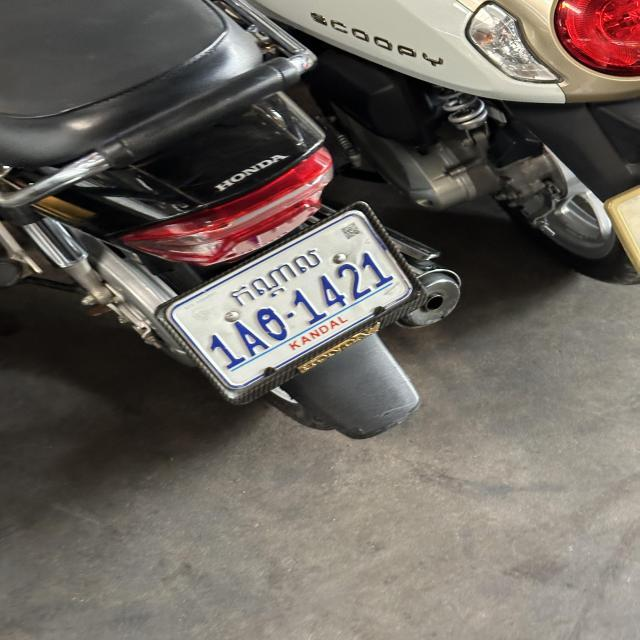Kandal: (229, 247, 322, 304)
